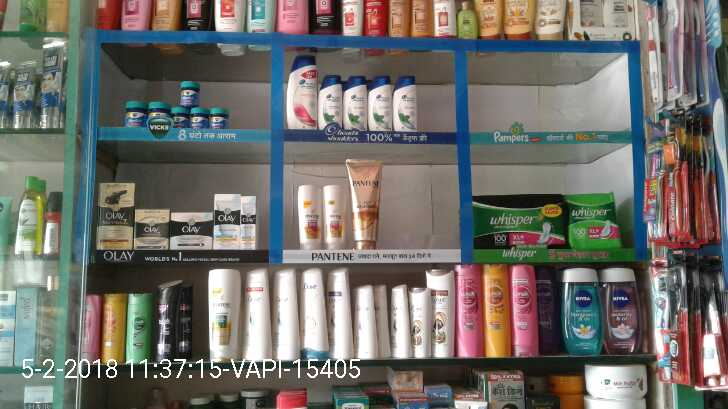vicks: (122, 77, 232, 135)
